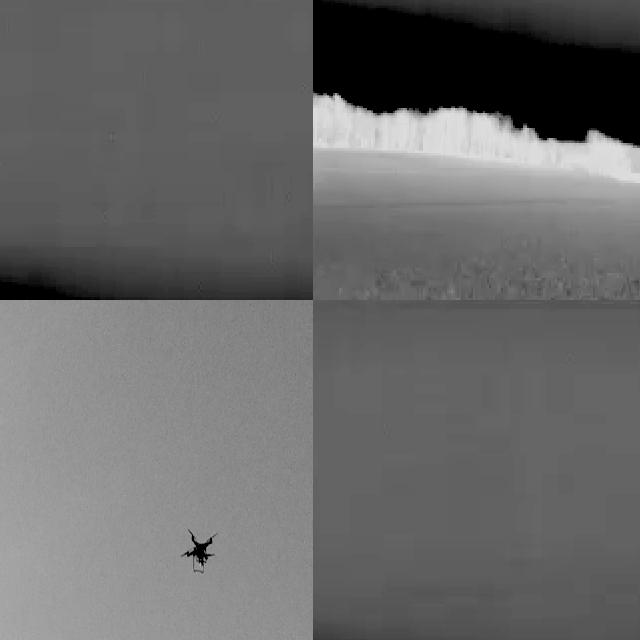drone: (178, 526, 218, 581)
